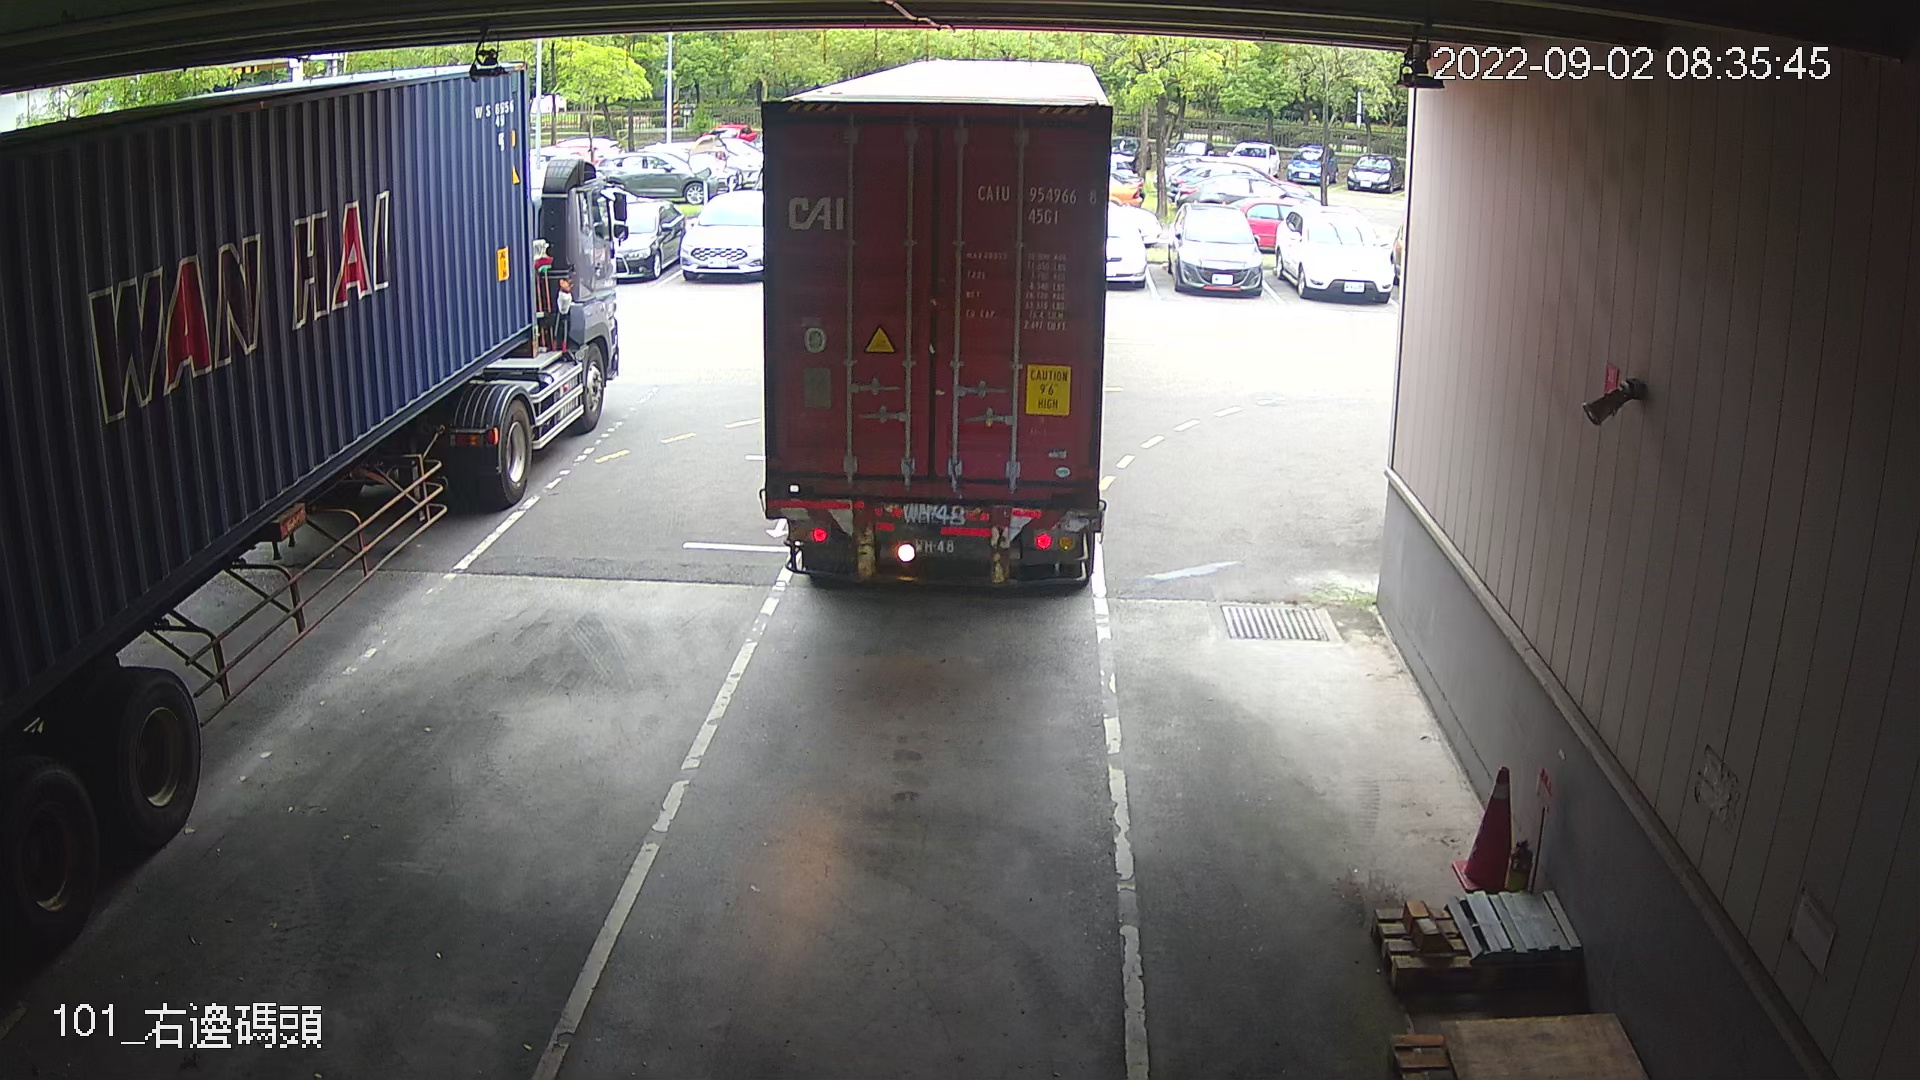container: (971, 175, 1101, 231)
